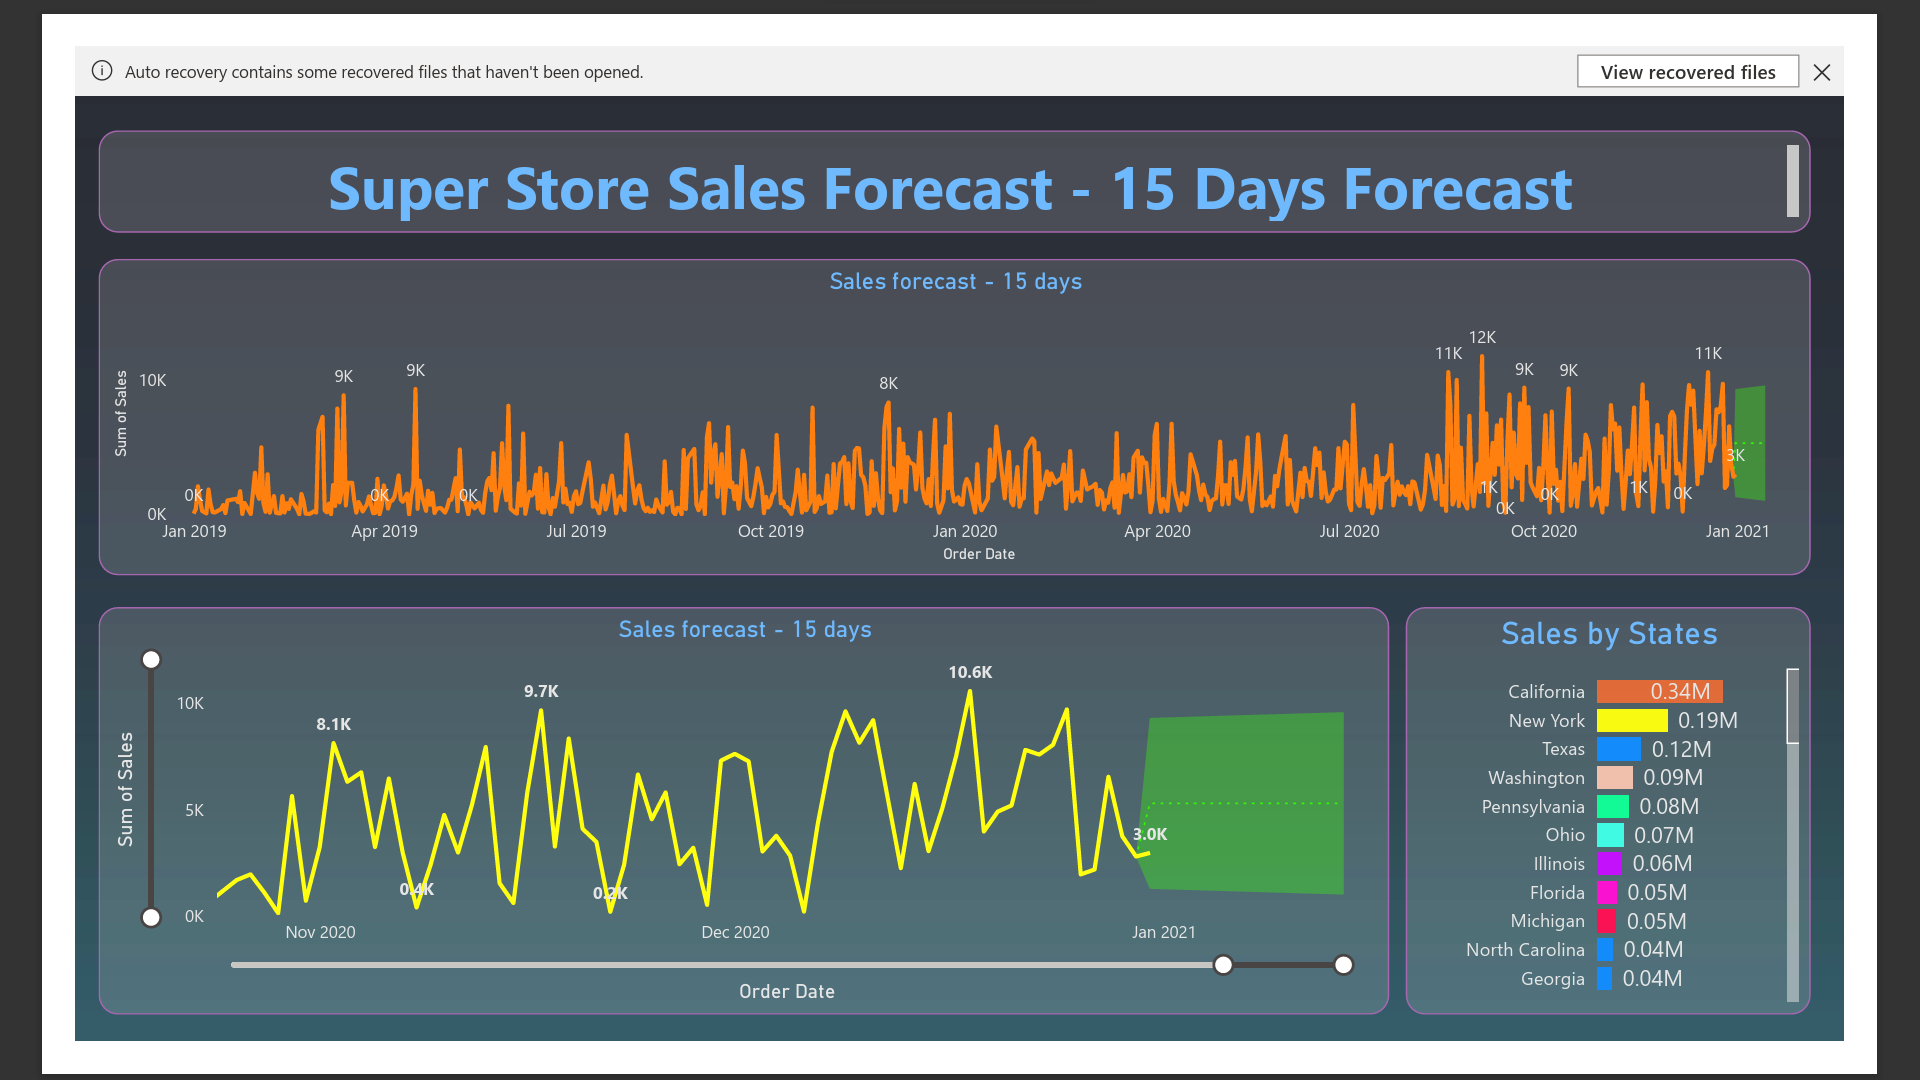

The page's visual inventory and layout, read from the dashboard file:
{"tool":"powerbi","page":{"name":"Page 2","canvas":[1280,720],"ordinal":1},"visuals":[{"type":"lineChart","title":"Sales forecast - 15 days","fields":{"Y":["Sum(SuperStore Sales DataSet.Sales)"],"Category":["SuperStore Sales DataSet.Order Date"]},"box":[16.7,154.2,1238.9,229.2],"z":0},{"type":"lineChart","title":"Sales forecast - 15 days","fields":{"Y":["Sum(SuperStore Sales DataSet.Sales)"],"Category":["SuperStore Sales DataSet.Order Date"]},"box":[16.7,405.6,934.7,295.8],"z":1000},{"type":"textbox","box":[16.7,61.1,1238.9,73.6],"z":2000},{"type":"clusteredBarChart","title":" Sales by States","fields":{"Y":["Sum(SuperStore Sales DataSet.Sales)"],"Category":["SuperStore Sales DataSet.State"]},"box":[962.5,405.6,293.1,295.8],"z":3000}]}

Visuals, with their boxes in screenshot pixels (x1, y1, x2, y2):
"Sales forecast - 15 days" lineChart: bbox=[40, 228, 1872, 567]
"Sales forecast - 15 days" lineChart: bbox=[40, 600, 1422, 1038]
textbox: bbox=[40, 90, 1872, 199]
" Sales by States" clusteredBarChart: bbox=[1439, 600, 1872, 1038]
